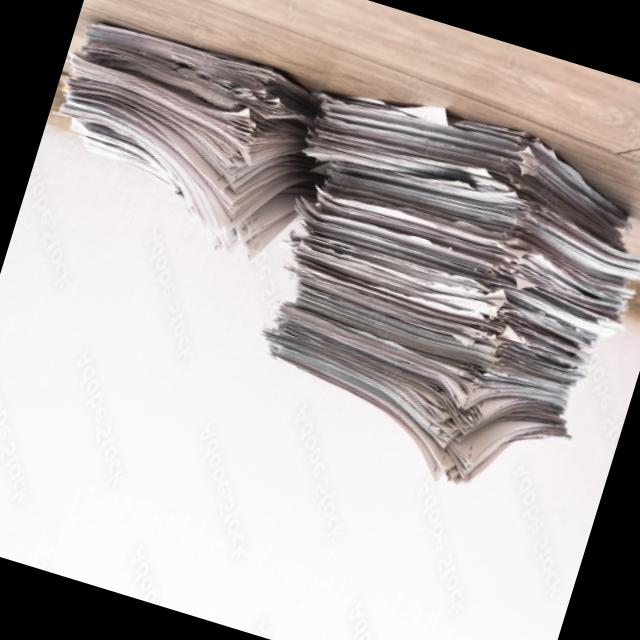KertasBekas: (218, 68, 640, 525), (24, 9, 346, 278)
